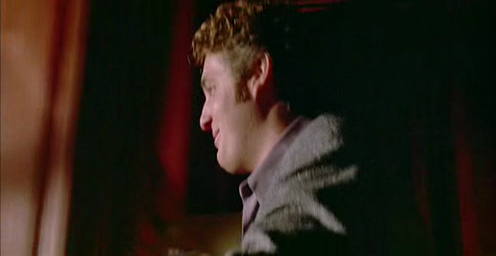cu: (1, 1, 495, 256)
face: (199, 50, 245, 172)
person: (189, 1, 426, 256)
